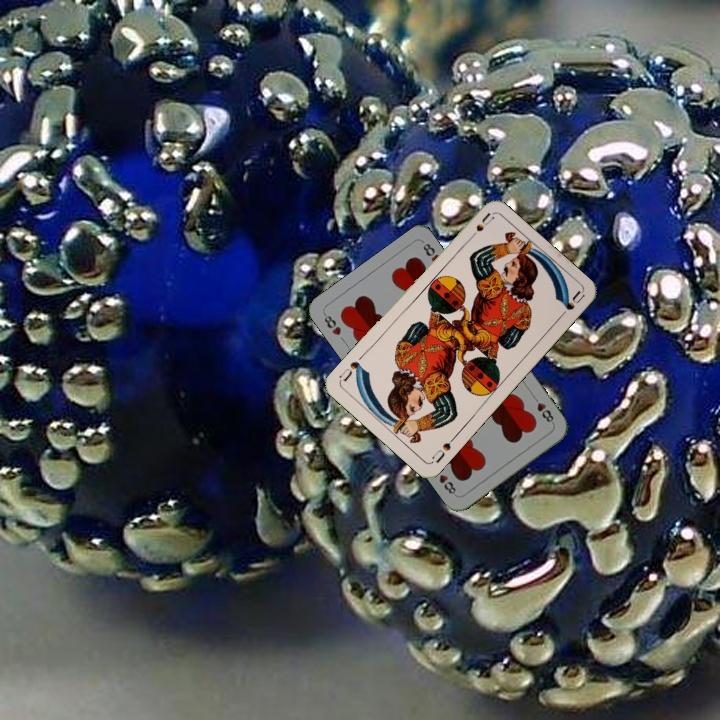H8: (528, 391, 557, 427), (319, 309, 344, 338)
SU: (463, 209, 497, 244), (428, 432, 459, 465)
